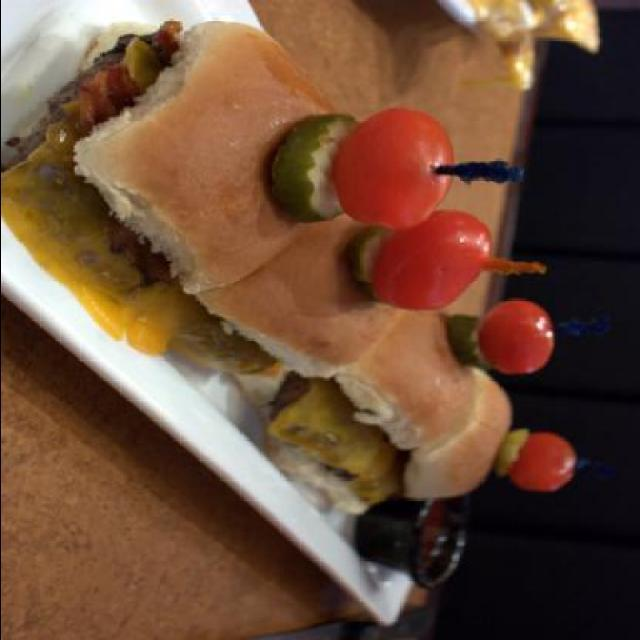Sandwich: (1, 18, 584, 516)
